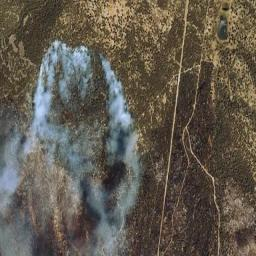Low smoke: (12, 35, 137, 256)
